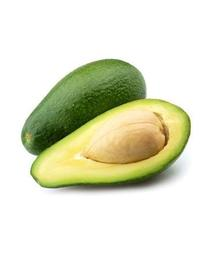avocado: (30, 98, 190, 190), (21, 59, 147, 159)
